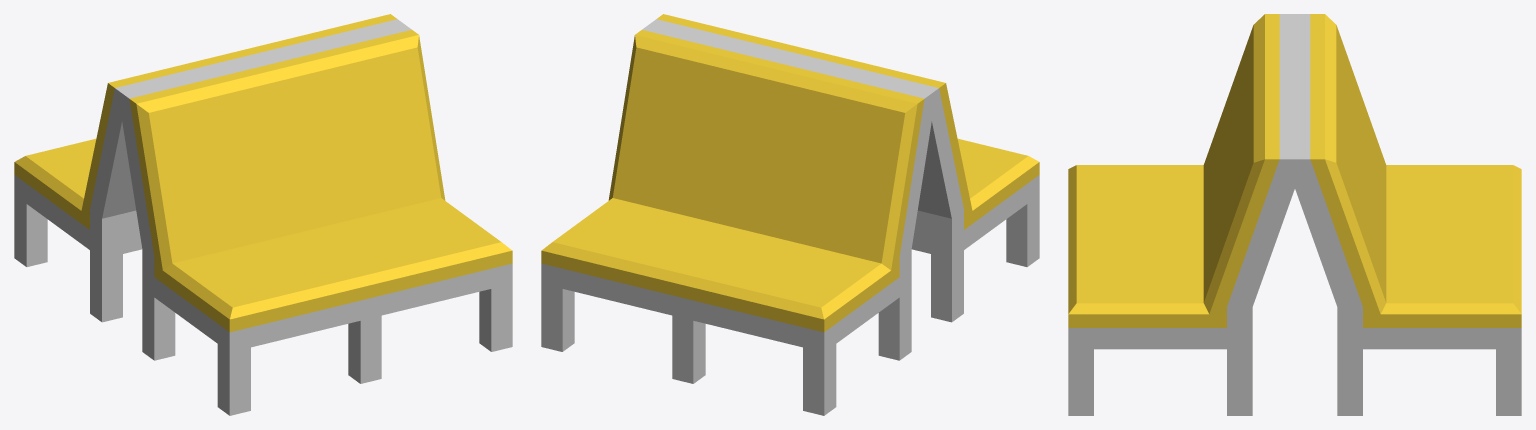
The model's file is Chair.fbx.
The picture shows the model from 3 angles, left to right: view 1: azimuth 30°, elevation 25°; view 2: azimuth 150°, elevation 25°; view 3: azimuth 270°, elevation 25°; orthographic projection. The views are drawn at different scales.
Visible parts, largest first — view 1: Chair1.007; view 2: Chair1.007; view 3: Chair1.007.
Part boxes in pixels (<box>): Chair1.007: <box>14,14,512,415</box>; Chair1.007: <box>541,14,1039,415</box>; Chair1.007: <box>1068,14,1521,415</box>.
Bounding box in the file's own units: 373 × 307 × 492.
